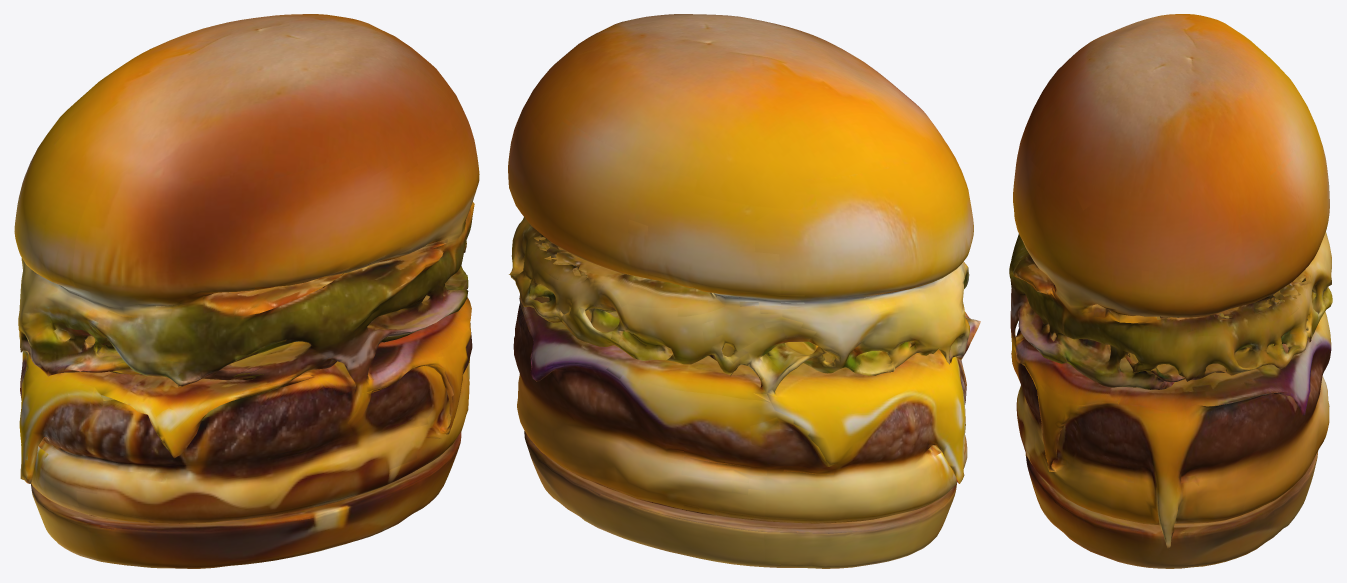
File: jurger.glb
3 renders of one model, left to right at view 1: azimuth 30°, elevation 25°; view 2: azimuth 150°, elevation 25°; view 3: azimuth 270°, elevation 25°, orthographic. The views are drawn at different scales.
Parts seen in each view (by area): view 1: _3DGeom112; view 2: _3DGeom112; view 3: _3DGeom112.
Part boxes in pixels (<box>): _3DGeom112: <box>14,14,479,568</box>; _3DGeom112: <box>508,14,980,568</box>; _3DGeom112: <box>1009,14,1332,568</box>.
Size of the model in its own units: 0.12 by 0.12 by 0.08.
Materials: 1 (1 with a texture image).
